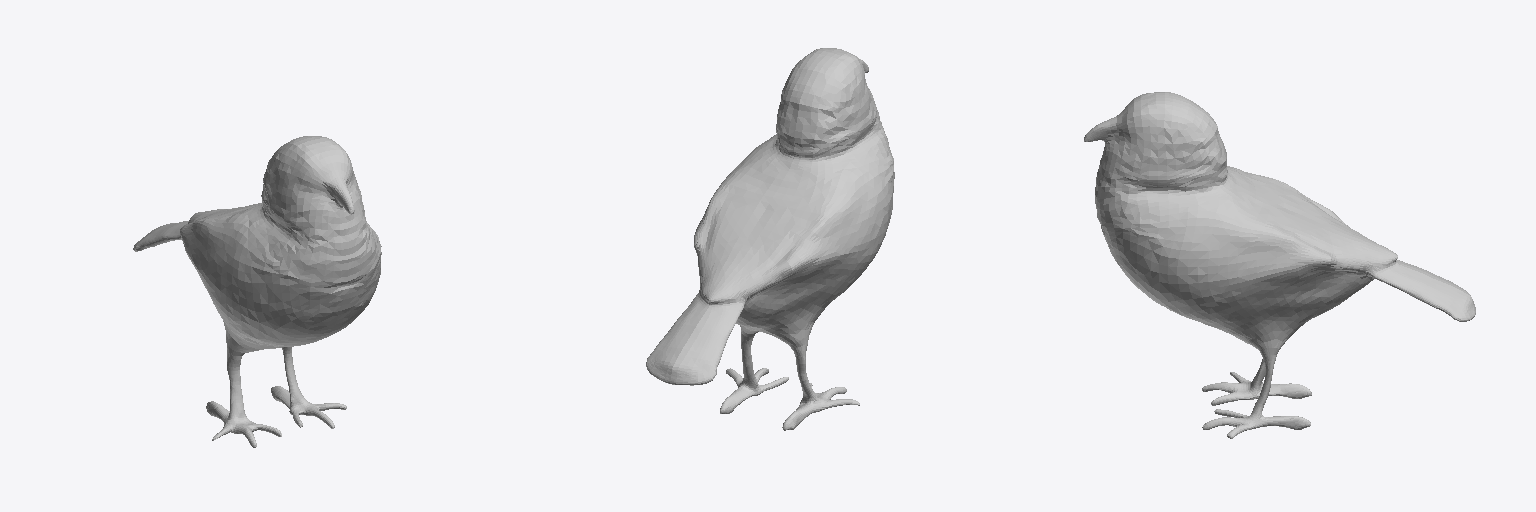
The model's file is uploads_files_5014818_Bird_Quad (1).obj.
3 renders of one model, left to right at view 1: azimuth 30°, elevation 25°; view 2: azimuth 150°, elevation 25°; view 3: azimuth 270°, elevation 25°, orthographic.
Visible parts, largest first — view 1: Bird_Quad; view 2: Bird_Quad; view 3: Bird_Quad.
Part boxes in pixels (left/top/right/bottom): Bird_Quad: left=133, top=136, right=381, bottom=447; Bird_Quad: left=646, top=48, right=894, bottom=430; Bird_Quad: left=1084, top=92, right=1475, bottom=438.
Size of the model in its own units: 0.0568 by 0.12 by 0.1347.